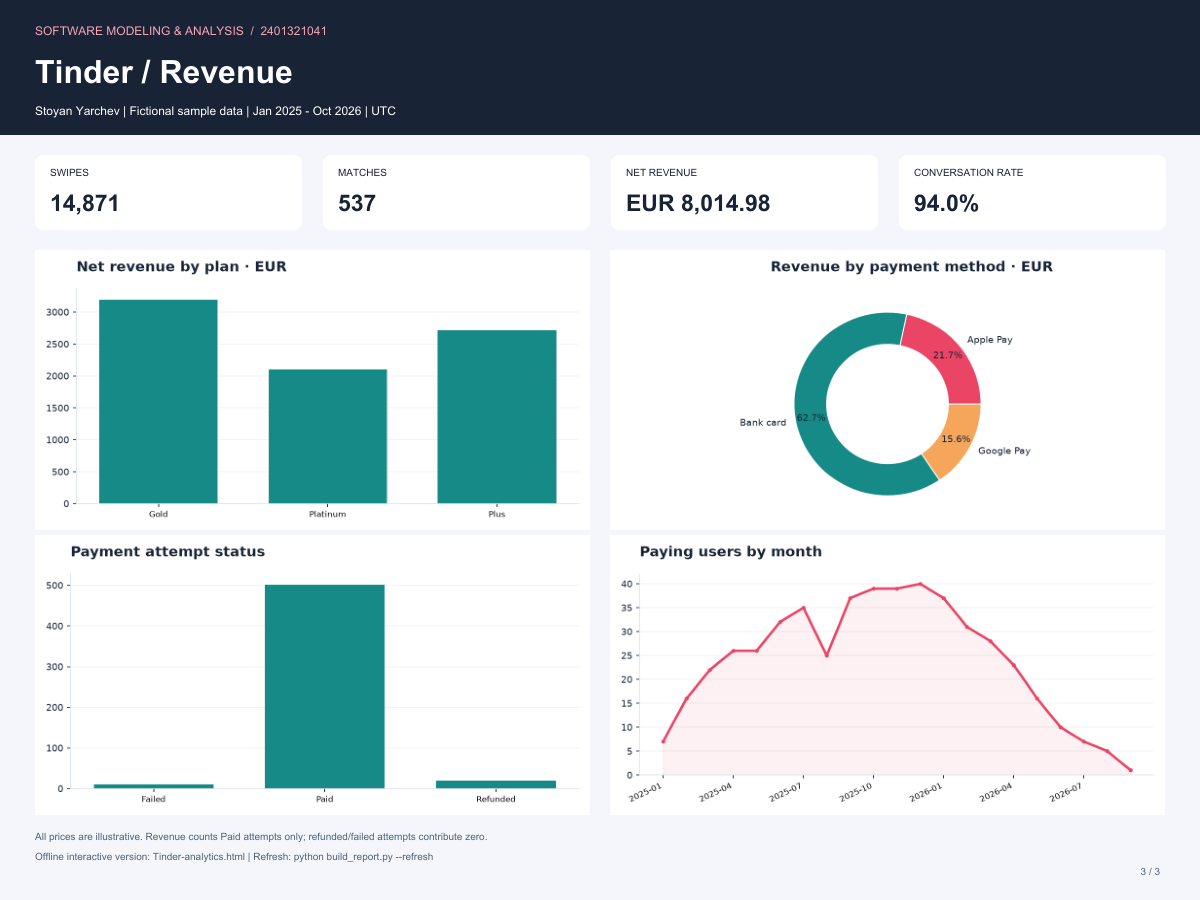

Layout of this report page (visuals, bound fields, positions):
{"tool":"powerbi","page":{"name":"03 | Revenue","canvas":[1280,800],"ordinal":2},"visuals":[{"type":"slicer","title":"Year","fields":{"Values":["DimDate.Year"]},"box":[20,15,300,100],"z":0},{"type":"slicer","title":"City","fields":{"Values":["DimCity.CityName"]},"box":[340,15,300,100],"z":1},{"type":"clusteredBarChart","title":"Revenue by plan (EUR)","fields":{"Category":["DimPlan.PlanName"],"Y":["FactPayments.Net Revenue"]},"box":[20,140,610,290],"z":2},{"type":"donutChart","title":"Payment methods","fields":{"Category":["DimPaymentMethod.MethodName"],"Y":["FactPayments.Net Revenue"]},"box":[650,140,610,290],"z":3},{"type":"clusteredBarChart","title":"Payment attempt status","fields":{"Category":["FactPayments.PaymentStatus"],"Y":["FactPayments.Payment Attempts"]},"box":[20,460,610,310],"z":4},{"type":"lineChart","title":"Paying users by month","fields":{"Category":["DimDate.YearMonth"],"Y":["FactPayments.Paying Users"]},"box":[650,460,610,310],"z":5}]}

Visuals, with their boxes on the page's 1280x800 design canvas (x1, y1, x2, y2). These are canvas units, not pixel positions in the 1200x900 screenshot, which may show the page scaled, cropped or inside an application window:
"Year" slicer: locate(20, 15, 320, 115)
"City" slicer: locate(340, 15, 640, 115)
"Revenue by plan (EUR)" clusteredBarChart: locate(20, 140, 630, 430)
"Payment methods" donutChart: locate(650, 140, 1260, 430)
"Payment attempt status" clusteredBarChart: locate(20, 460, 630, 770)
"Paying users by month" lineChart: locate(650, 460, 1260, 770)
